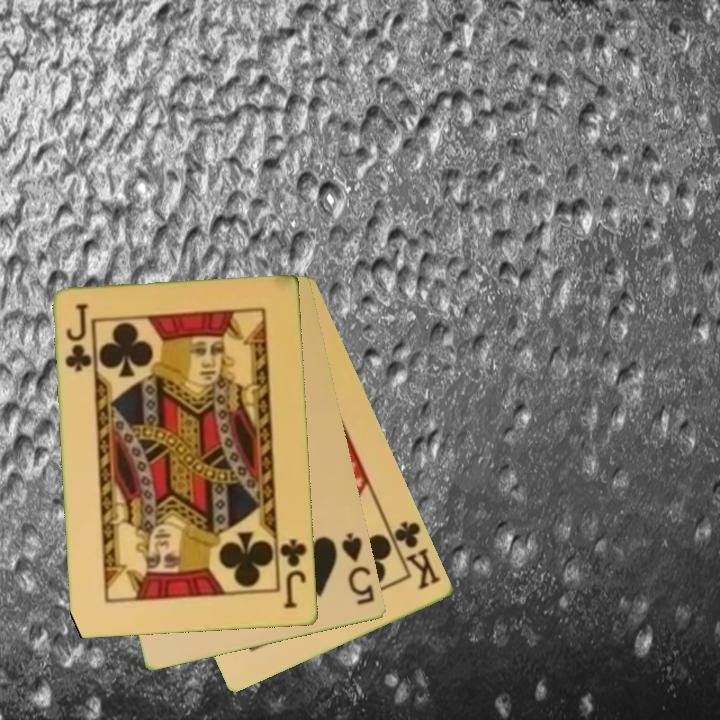5s: (338, 529, 378, 609)
Jc: (277, 536, 310, 612), (62, 300, 94, 375)
Kc: (384, 518, 444, 593)
